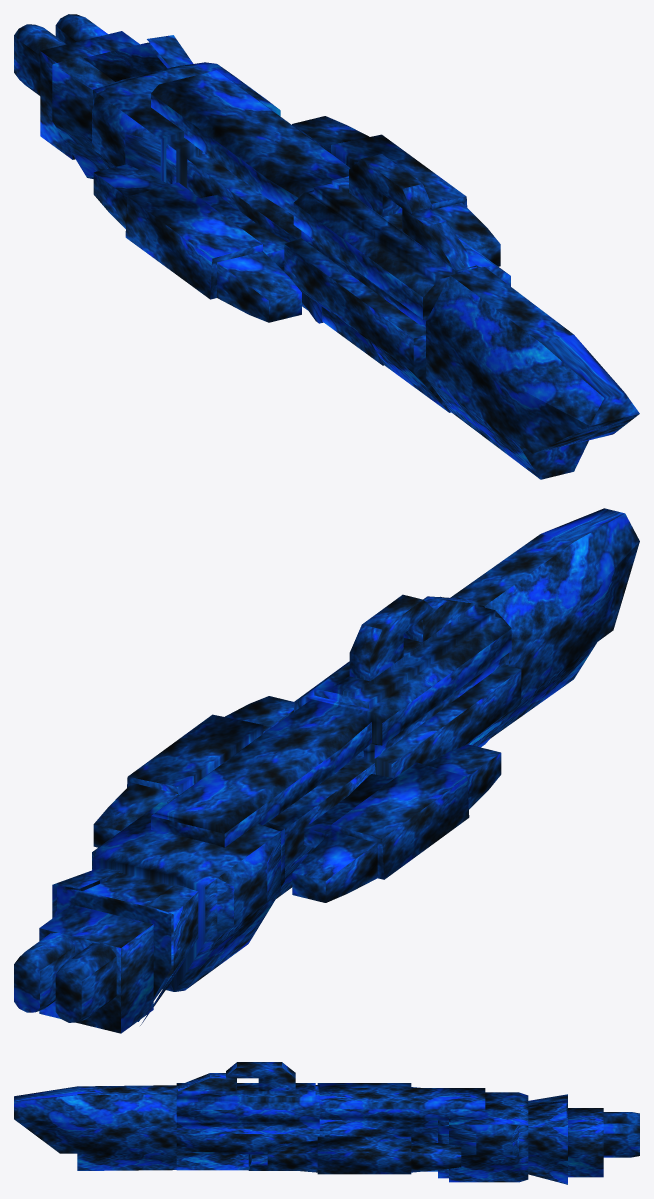
The model's file is DestroyerShield.fbx.
3 renders of one model, top to bottom at view 1: azimuth 30°, elevation 25°; view 2: azimuth 150°, elevation 25°; view 3: azimuth 270°, elevation 25°, orthographic. The views are drawn at different scales.
Parts seen in each view (by area): view 1: DestroyerShield; view 2: DestroyerShield; view 3: DestroyerShield.
Part boxes in pixels (x1,y1,x2,y2): DestroyerShield: [14, 14, 639, 479]; DestroyerShield: [14, 508, 639, 1033]; DestroyerShield: [14, 1062, 639, 1184].
Bounding box in the file's own units: 283 × 214 × 1077.
